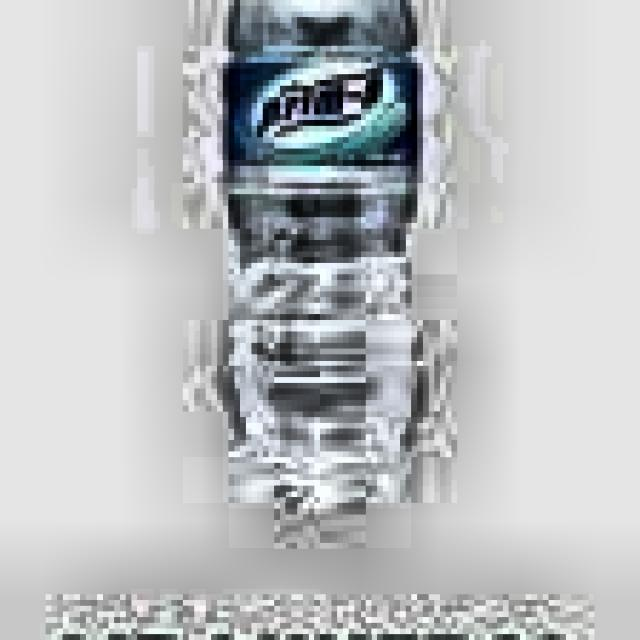plastic: (188, 0, 468, 509)
